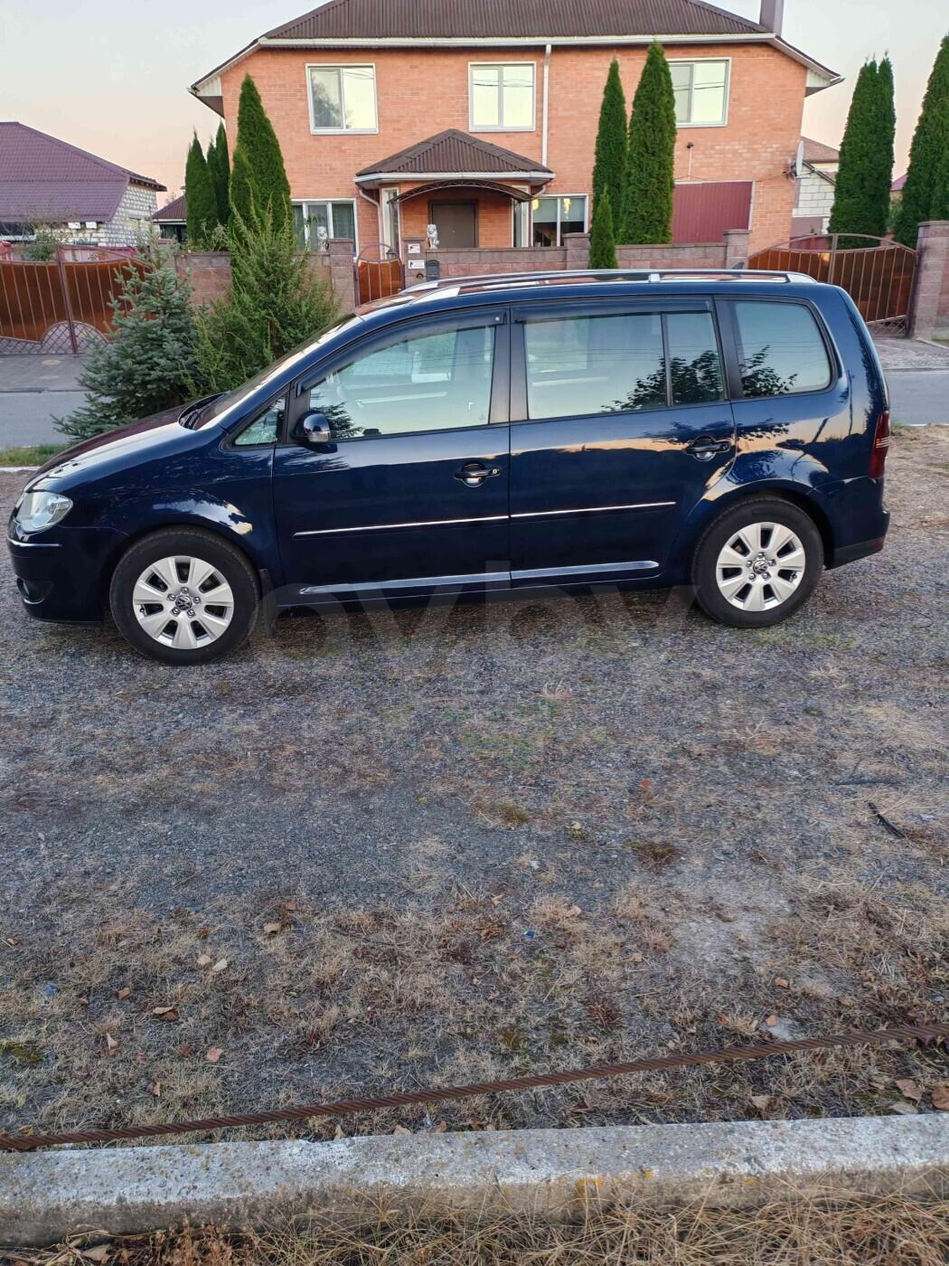Touran_2006-2010: (7, 269, 897, 664)
